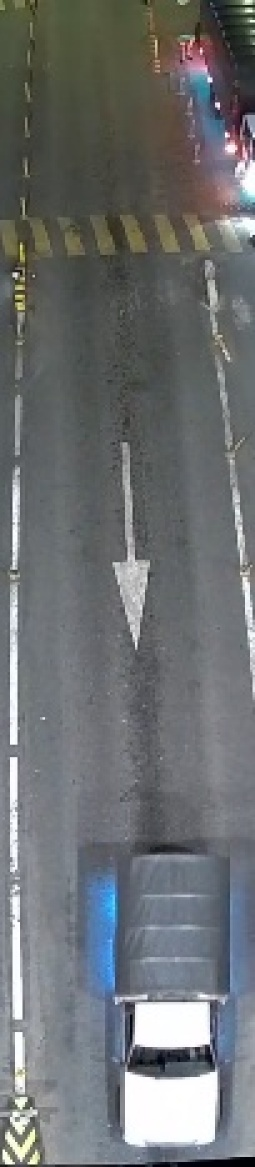car: (112, 992, 242, 1153)
